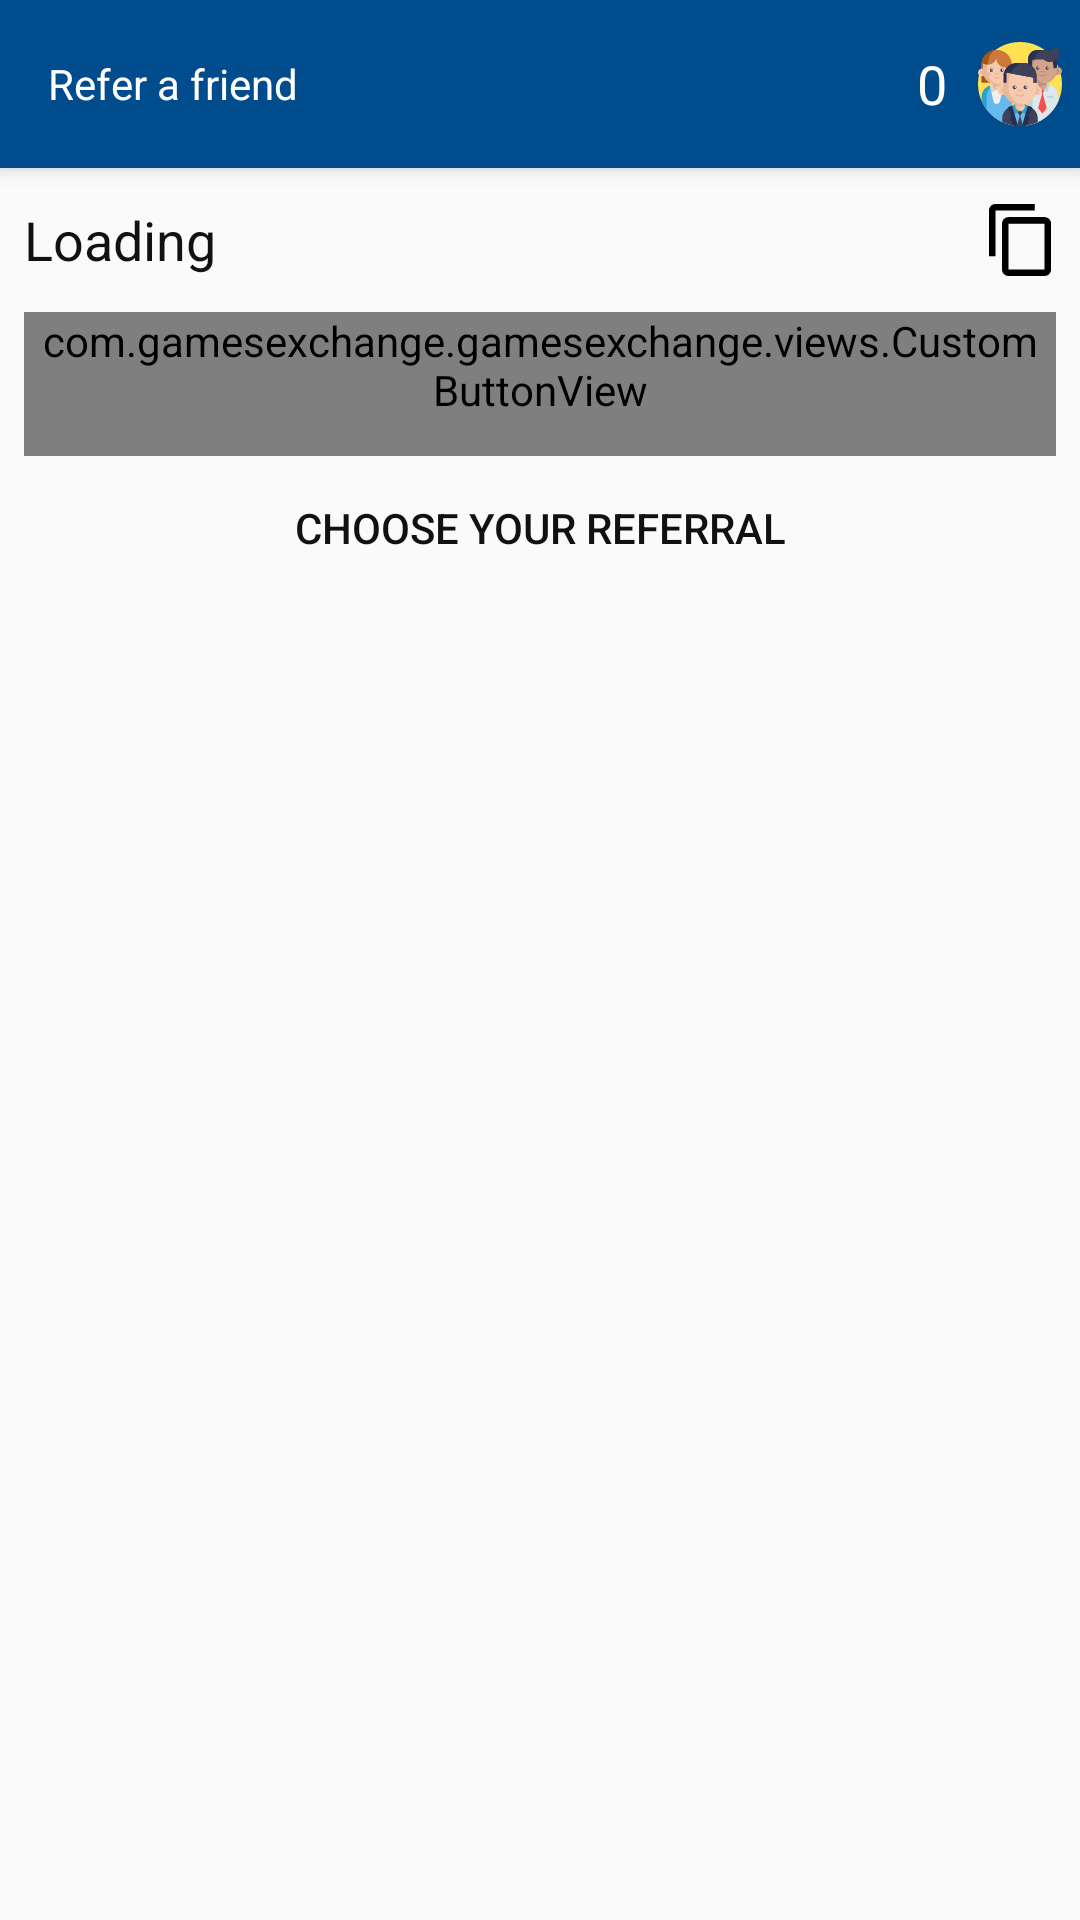

Locate icon controls on the screen. Image size 1080w x 1920h, boxes as (x1, y1, x2, y2).
teamwork: (978, 42, 1062, 126)
